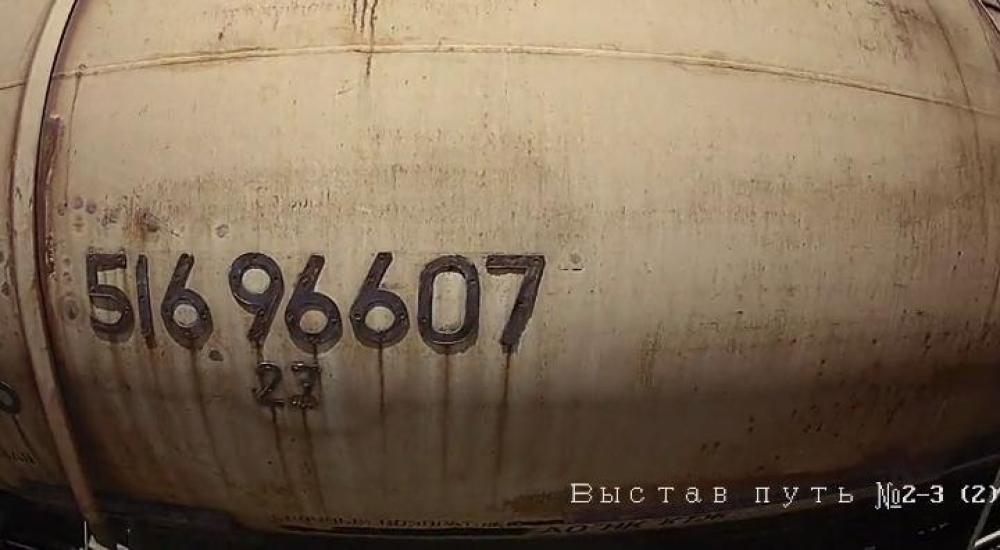Wagon-number: (80, 244, 555, 358)
